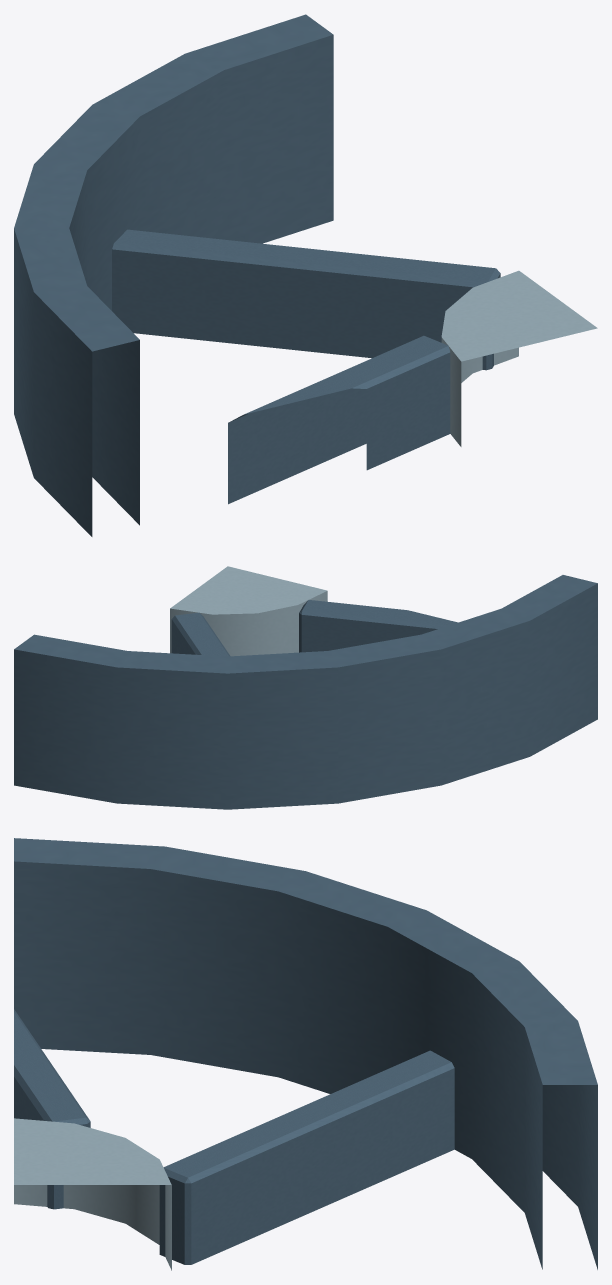
Rendered from cell_16.obj.
3 views of the same model, one above another, from view 1: azimuth 30°, elevation 25°; view 2: azimuth 150°, elevation 25°; view 3: azimuth 270°, elevation 25° (orthographic). The views are drawn at different scales.
Visible parts, largest first — view 1: cell_16; view 2: cell_16; view 3: cell_16.
Boxes of the visible parts, bbox=[...] form: cell_16: bbox=[14, 14, 597, 536]; cell_16: bbox=[14, 566, 597, 809]; cell_16: bbox=[14, 838, 597, 1270].
Bounding box in the file's own units: 0.37 × 0.13 × 0.37.
